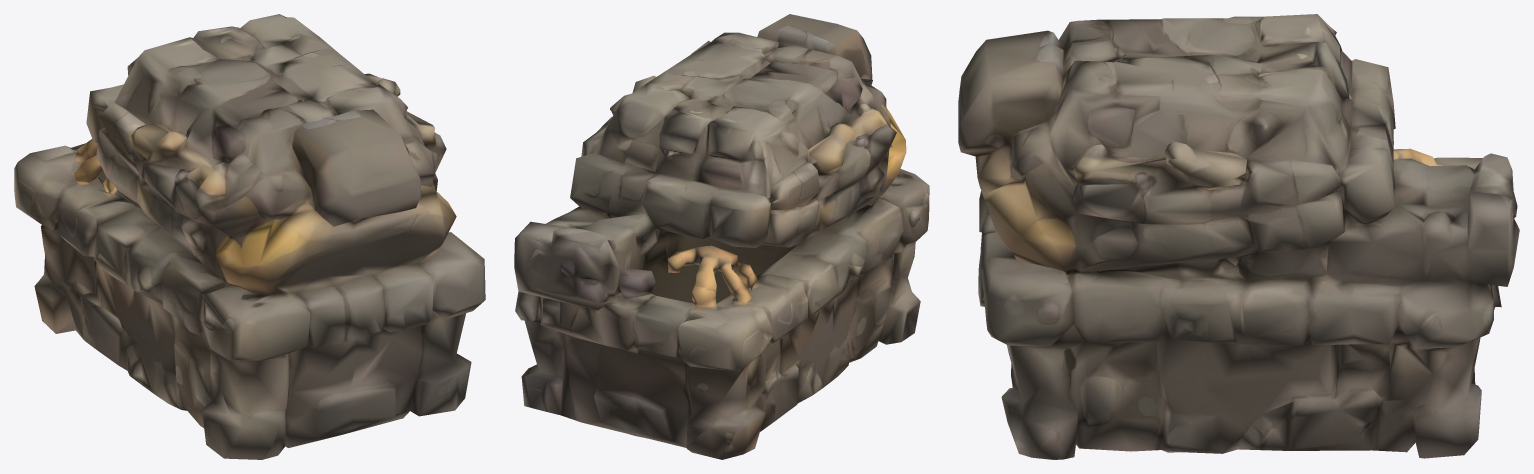
Rendered from cr_coffin-trTma7iv.glb.
3 renders of one model, left to right at view 1: azimuth 30°, elevation 25°; view 2: azimuth 150°, elevation 25°; view 3: azimuth 270°, elevation 25°, orthographic. The views are drawn at different scales.
Parts seen in each view (by area): view 1: tripo_node_2c20f61c-9535-411a-b217-f3496253b50e; view 2: tripo_node_2c20f61c-9535-411a-b217-f3496253b50e; view 3: tripo_node_2c20f61c-9535-411a-b217-f3496253b50e.
Part boxes in pixels (left/top/right/bottom): tripo_node_2c20f61c-9535-411a-b217-f3496253b50e: left=14, top=14, right=485, bottom=459; tripo_node_2c20f61c-9535-411a-b217-f3496253b50e: left=514, top=14, right=929, bottom=459; tripo_node_2c20f61c-9535-411a-b217-f3496253b50e: left=958, top=14, right=1519, bottom=459.
Bounding box in the file's own units: 1.85 × 2.06 × 3.
Materials: 1 (1 with a texture image).
